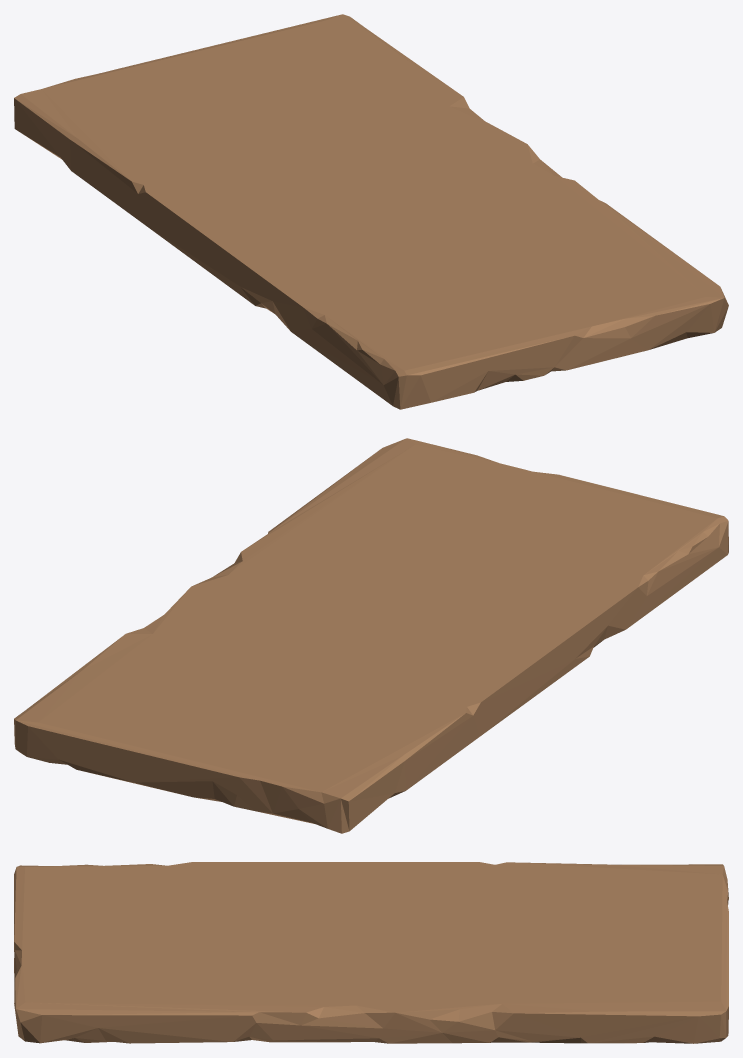
Rendered from SM_clay_platform_01.fbx.
3 views of the same model, one above another, from view 1: azimuth 30°, elevation 25°; view 2: azimuth 150°, elevation 25°; view 3: azimuth 270°, elevation 25° (orthographic). The views are drawn at different scales.
Parts seen in each view (by area): view 1: clay_platform_01; view 2: clay_platform_01; view 3: clay_platform_01.
Part boxes in pixels (<box>): clay_platform_01: <box>14,14,728,409</box>; clay_platform_01: <box>14,438,728,833</box>; clay_platform_01: <box>14,862,728,1043</box>.
Size of the model in its own units: 500 by 50.01 by 1000.
